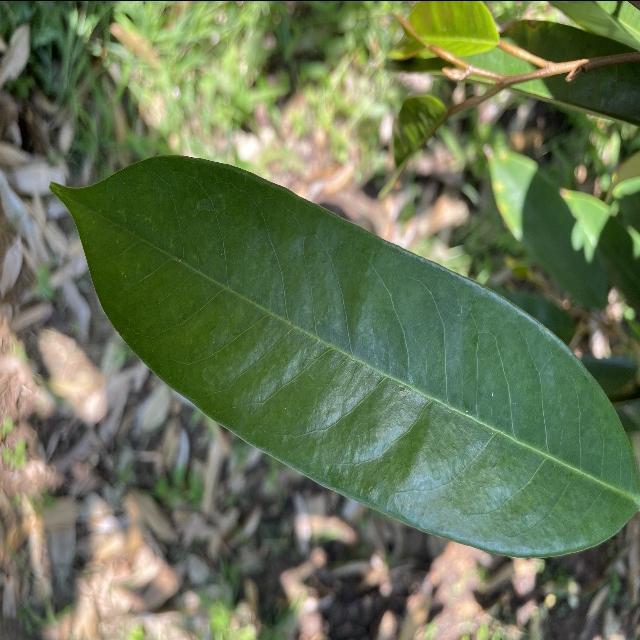No Disease: (44, 145, 640, 566)
